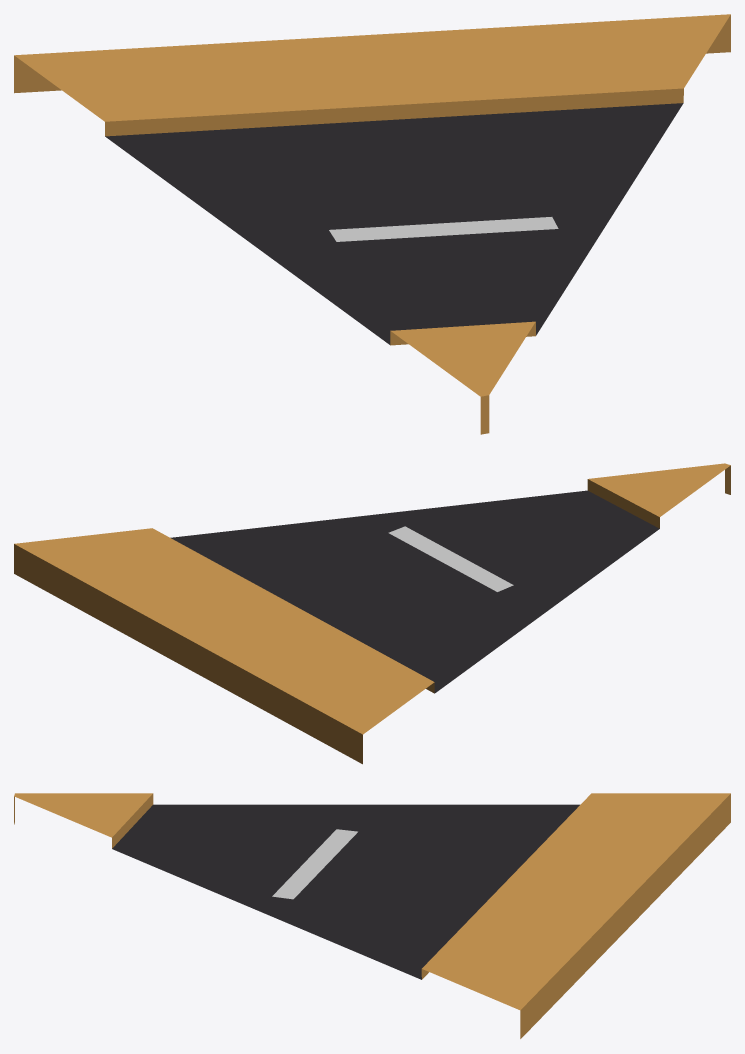
File: R-Tri.fbx
3 views of the same model, one above another, from view 1: azimuth 30°, elevation 25°; view 2: azimuth 150°, elevation 25°; view 3: azimuth 270°, elevation 25° (orthographic). The views are drawn at different scales.
Visible parts, largest first — view 1: Cube.002; view 2: Cube.002; view 3: Cube.002.
Part boxes in pixels (x1=…): Cube.002: x1=14, y1=14, x2=730, y2=434; Cube.002: x1=14, y1=463, x2=730, y2=764; Cube.002: x1=14, y1=793, x2=730, y2=1038.
Bounding box in the file's own units: 355 × 22.21 × 495.
